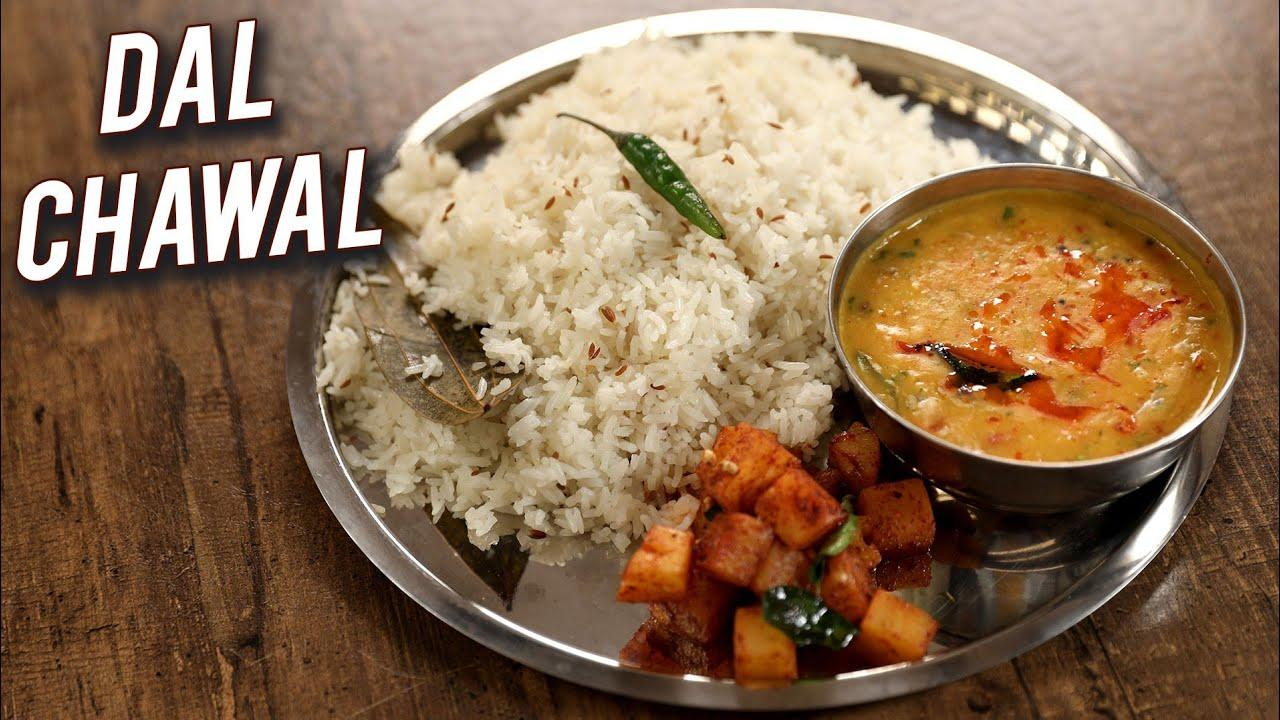rice: (450, 52, 824, 420)
